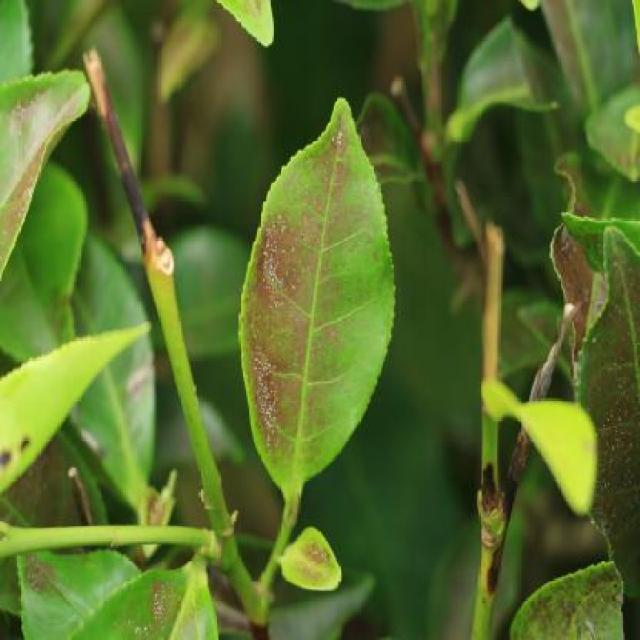Red Spider infested tea leaf: (232, 103, 400, 514)
